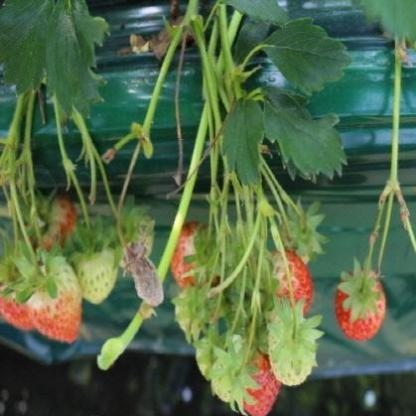Strawberry_Gray_Mold: (119, 238, 164, 306)
